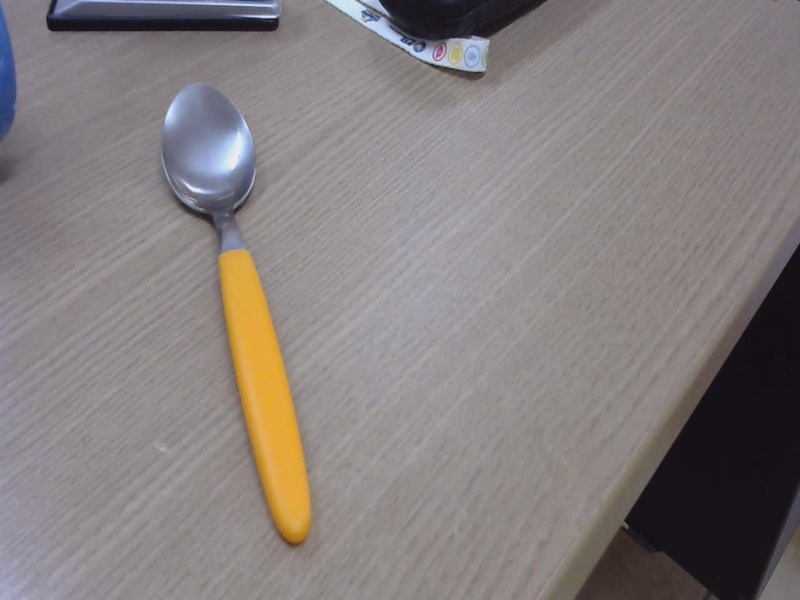cuchara: (159, 83, 399, 549)
